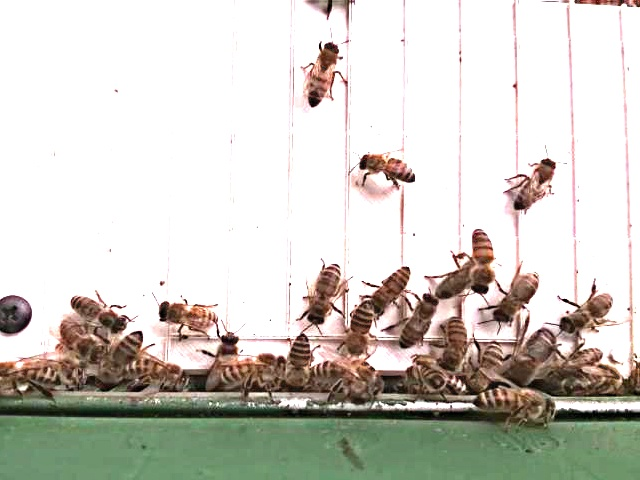Drone: (501, 322, 566, 384)
Worker: (219, 346, 292, 398), (296, 262, 359, 321), (360, 259, 421, 319), (489, 265, 546, 325), (302, 37, 348, 110), (315, 356, 383, 404), (463, 220, 502, 302), (556, 285, 618, 335), (394, 290, 443, 353), (513, 152, 563, 212), (473, 384, 558, 416), (156, 293, 225, 332), (357, 147, 421, 189), (432, 315, 481, 369), (70, 291, 129, 335), (57, 315, 109, 363), (281, 326, 320, 387), (342, 300, 385, 354), (0, 359, 68, 391), (125, 354, 192, 385), (107, 327, 146, 380)
